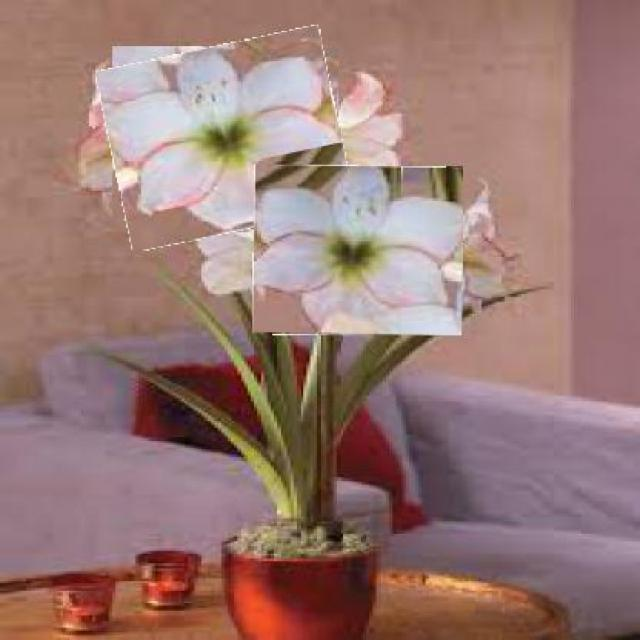Flower: (104, 36, 348, 242), (253, 166, 465, 337)
